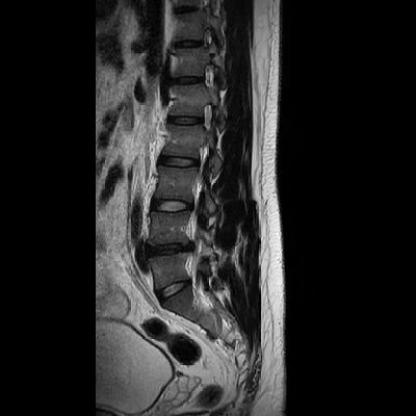Disc Bulgerotation: (145, 239, 189, 264)
